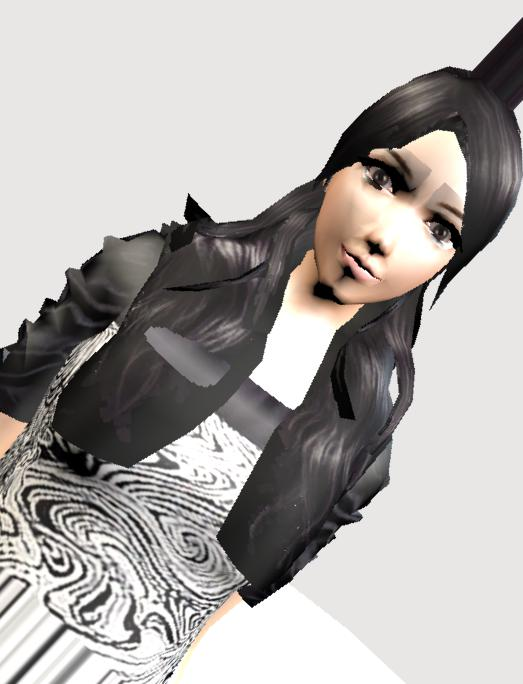clip: (139, 323, 200, 367)
